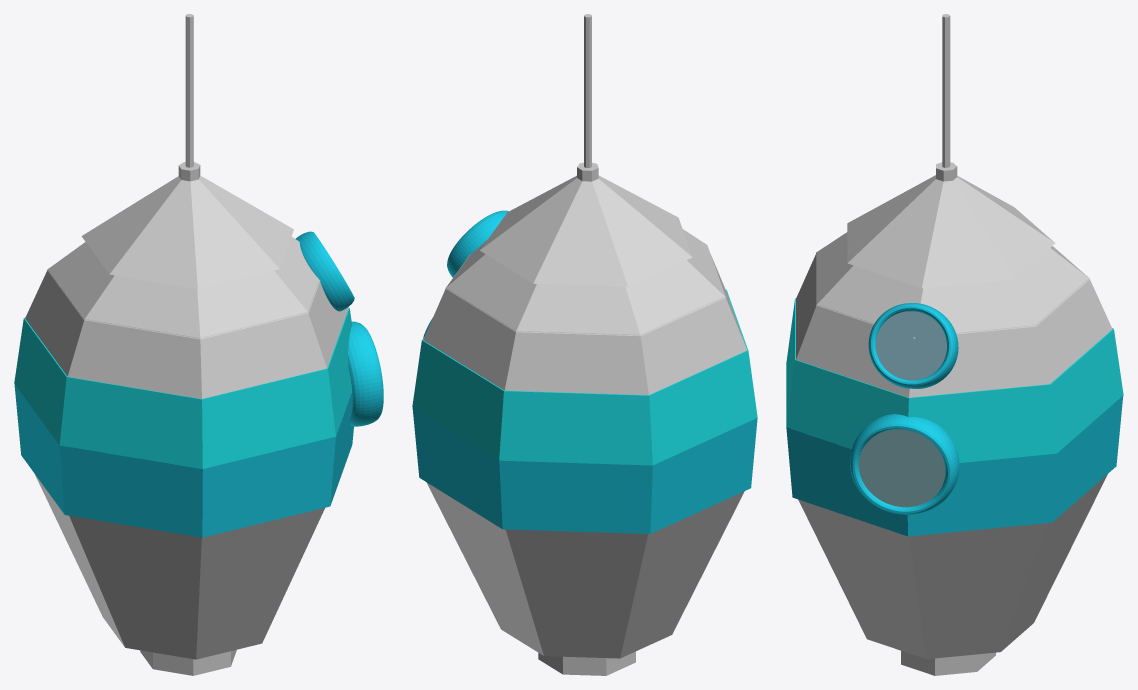
File: Ship.fbx
The picture shows the model from 3 angles, left to right: view 1: azimuth 30°, elevation 25°; view 2: azimuth 150°, elevation 25°; view 3: azimuth 270°, elevation 25°; orthographic projection.
Parts seen in each view (by area): view 1: Cilindro, Cilindro_002, Cilindro_001, Cilindro_003, Cone, Cilindro_004, Torus_001, Torus_000, Cilindro_005, Cilindro_007; view 2: Cilindro, Cilindro_002, Cilindro_001, Cilindro_003, Cone, Cilindro_004, Cilindro_005, Torus_000, Cilindro_007; view 3: Cilindro, Cilindro_002, Cilindro_001, Cone, Cilindro_003, Cilindro_004, C_rculo, C_rculo_001, Torus_001, Torus_000, Cilindro_005, Cilindro_007.
Boxes of the visible parts, x1,y1,x2,y2 form: Cilindro: (35,474,324,659); Cilindro_002: (14,307,352,468); Cilindro_001: (14,384,353,537); Cilindro_003: (25,269,348,398); Cone: (81,175,293,288); Cilindro_004: (47,237,320,339); Torus_001: (348,321,383,426); Torus_000: (296,231,354,311); Cilindro_005: (140,649,236,675); Cilindro_007: (185,14,193,167); Cilindro: (426,482,744,658); Cilindro_002: (412,289,757,465); Cilindro_001: (412,407,757,533); Cilindro_003: (423,244,747,395); Cone: (480,175,692,286); Cilindro_004: (445,229,725,336); Cilindro_005: (538,651,635,675); Torus_000: (447,210,508,277); Cilindro_007: (584,14,591,167); Cilindro: (798,474,1107,659); Cilindro_002: (786,298,1123,462); Cilindro_001: (786,395,1123,536); Cone: (847,175,1055,288); Cilindro_003: (796,247,1112,397); Cilindro_004: (816,232,1089,338); C_rculo: (858,429,945,507); C_rculo_001: (876,311,946,380); Torus_001: (850,414,959,514); Torus_000: (868,303,958,388); Cilindro_005: (901,651,995,675); Cilindro_007: (942,14,950,167).
Bounding box in the file's own units: 3.28 × 6.35 × 3.03.
